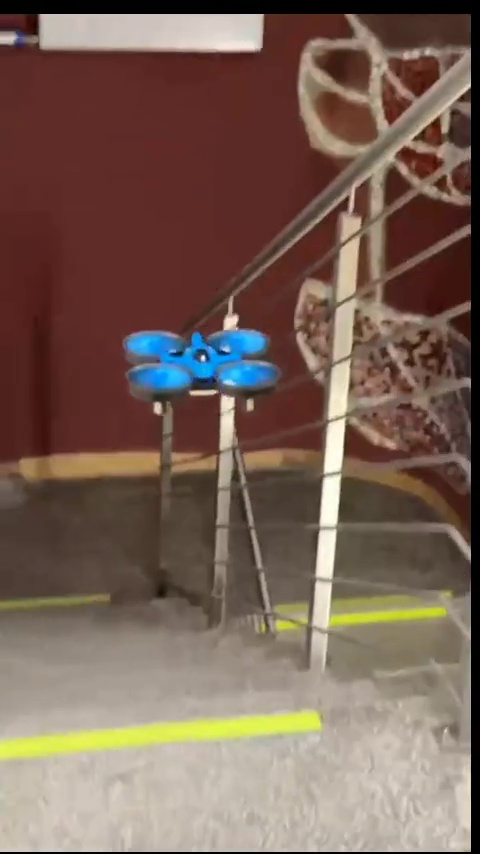drone: (121, 334, 280, 413)
